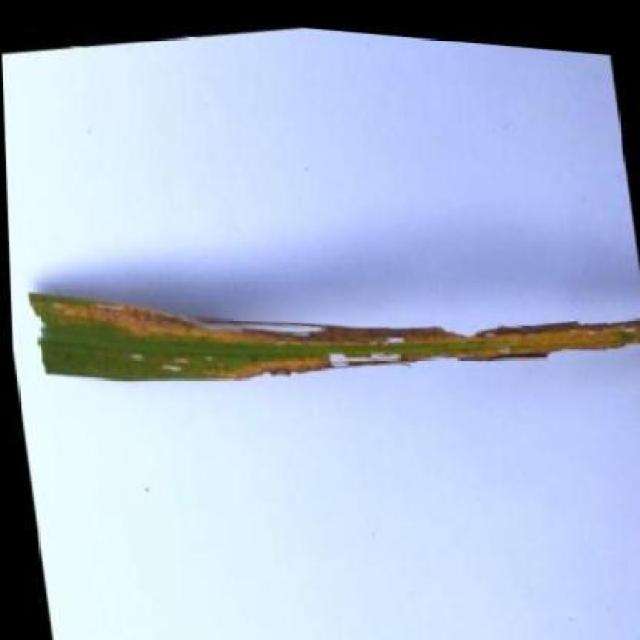Rice False Smut: (27, 291, 640, 378)
